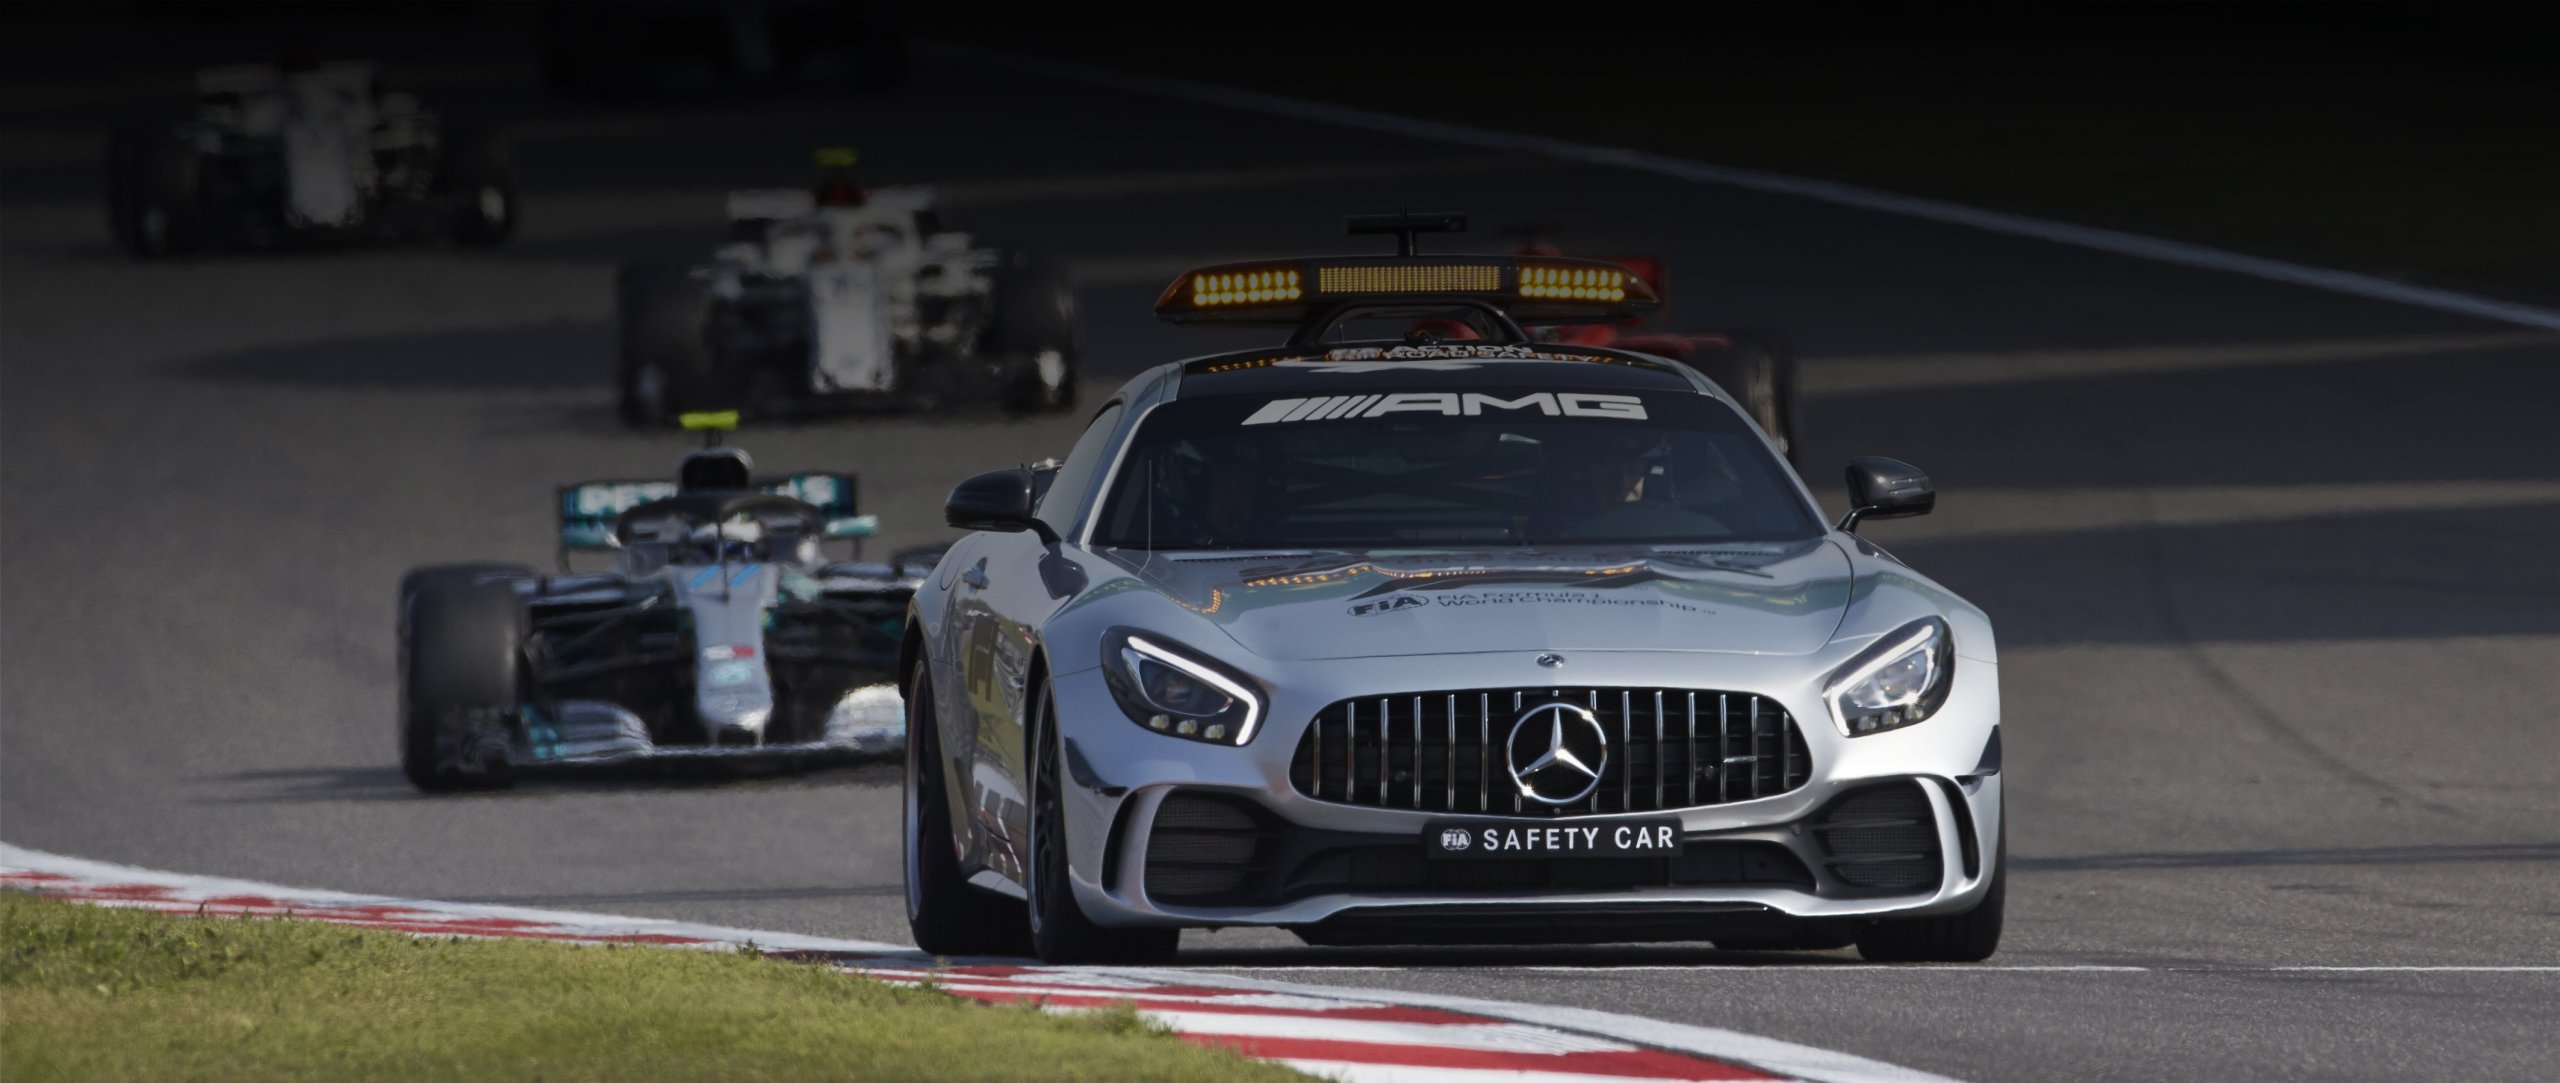car: (888, 255, 2021, 965), (384, 428, 1011, 781), (606, 142, 1087, 421)
